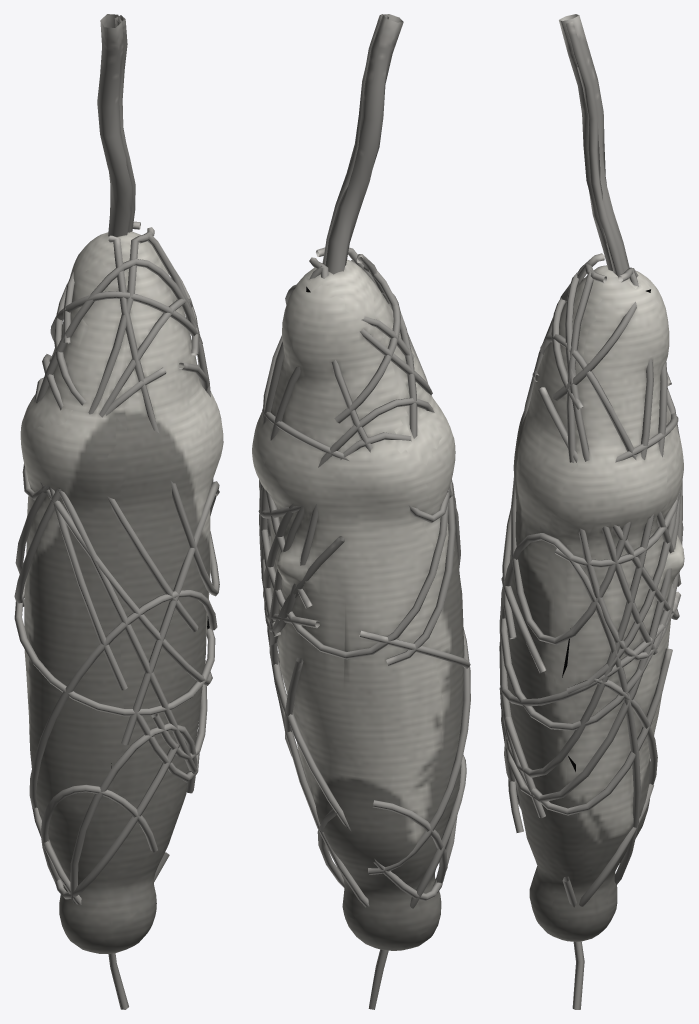
The model's file is silk_cocoon_hang.obj.
3 views of the same model, side by side, from view 1: azimuth 30°, elevation 25°; view 2: azimuth 150°, elevation 25°; view 3: azimuth 270°, elevation 25° (orthographic).
Parts seen in each view (by area): view 1: part0, part1; view 2: part0, part1; view 3: part0, part1.
Part boxes in pixels (x1=…): part0: x1=20, y1=231, x2=223, y2=953; part1: x1=14, y1=14, x2=219, y2=1009; part0: x1=252, y1=259, x2=464, y2=950; part1: x1=258, y1=14, x2=470, y2=1009; part0: x1=506, y1=265, x2=684, y2=941; part1: x1=499, y1=14, x2=683, y2=1009.
Bounding box in the file's own units: 0.6039 × 2.99 × 0.5087.
